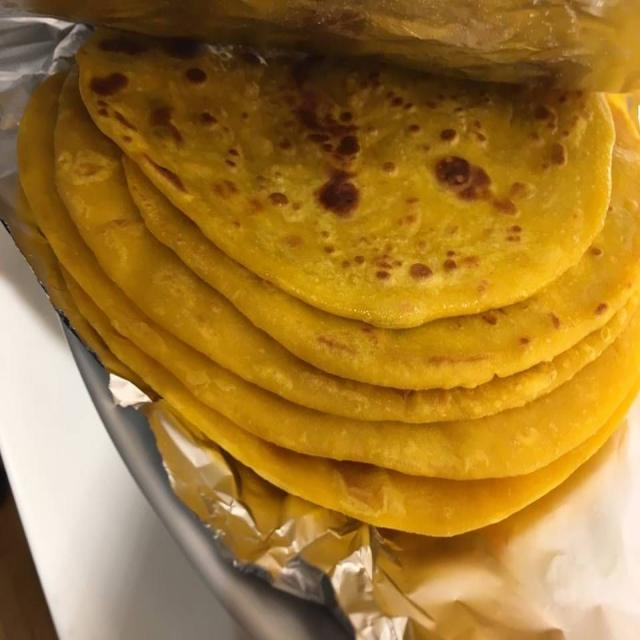roti: (20, 36, 640, 519)
